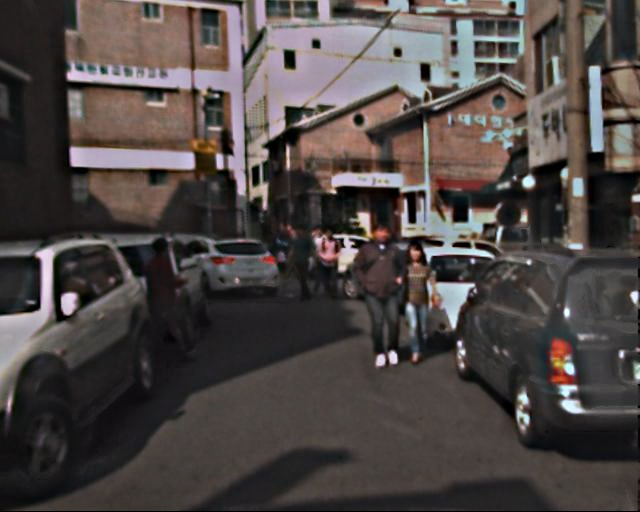person: (357, 225, 415, 366), (142, 238, 194, 365), (393, 244, 442, 364), (291, 229, 318, 294), (319, 229, 345, 293), (307, 230, 333, 293), (276, 225, 294, 269)
